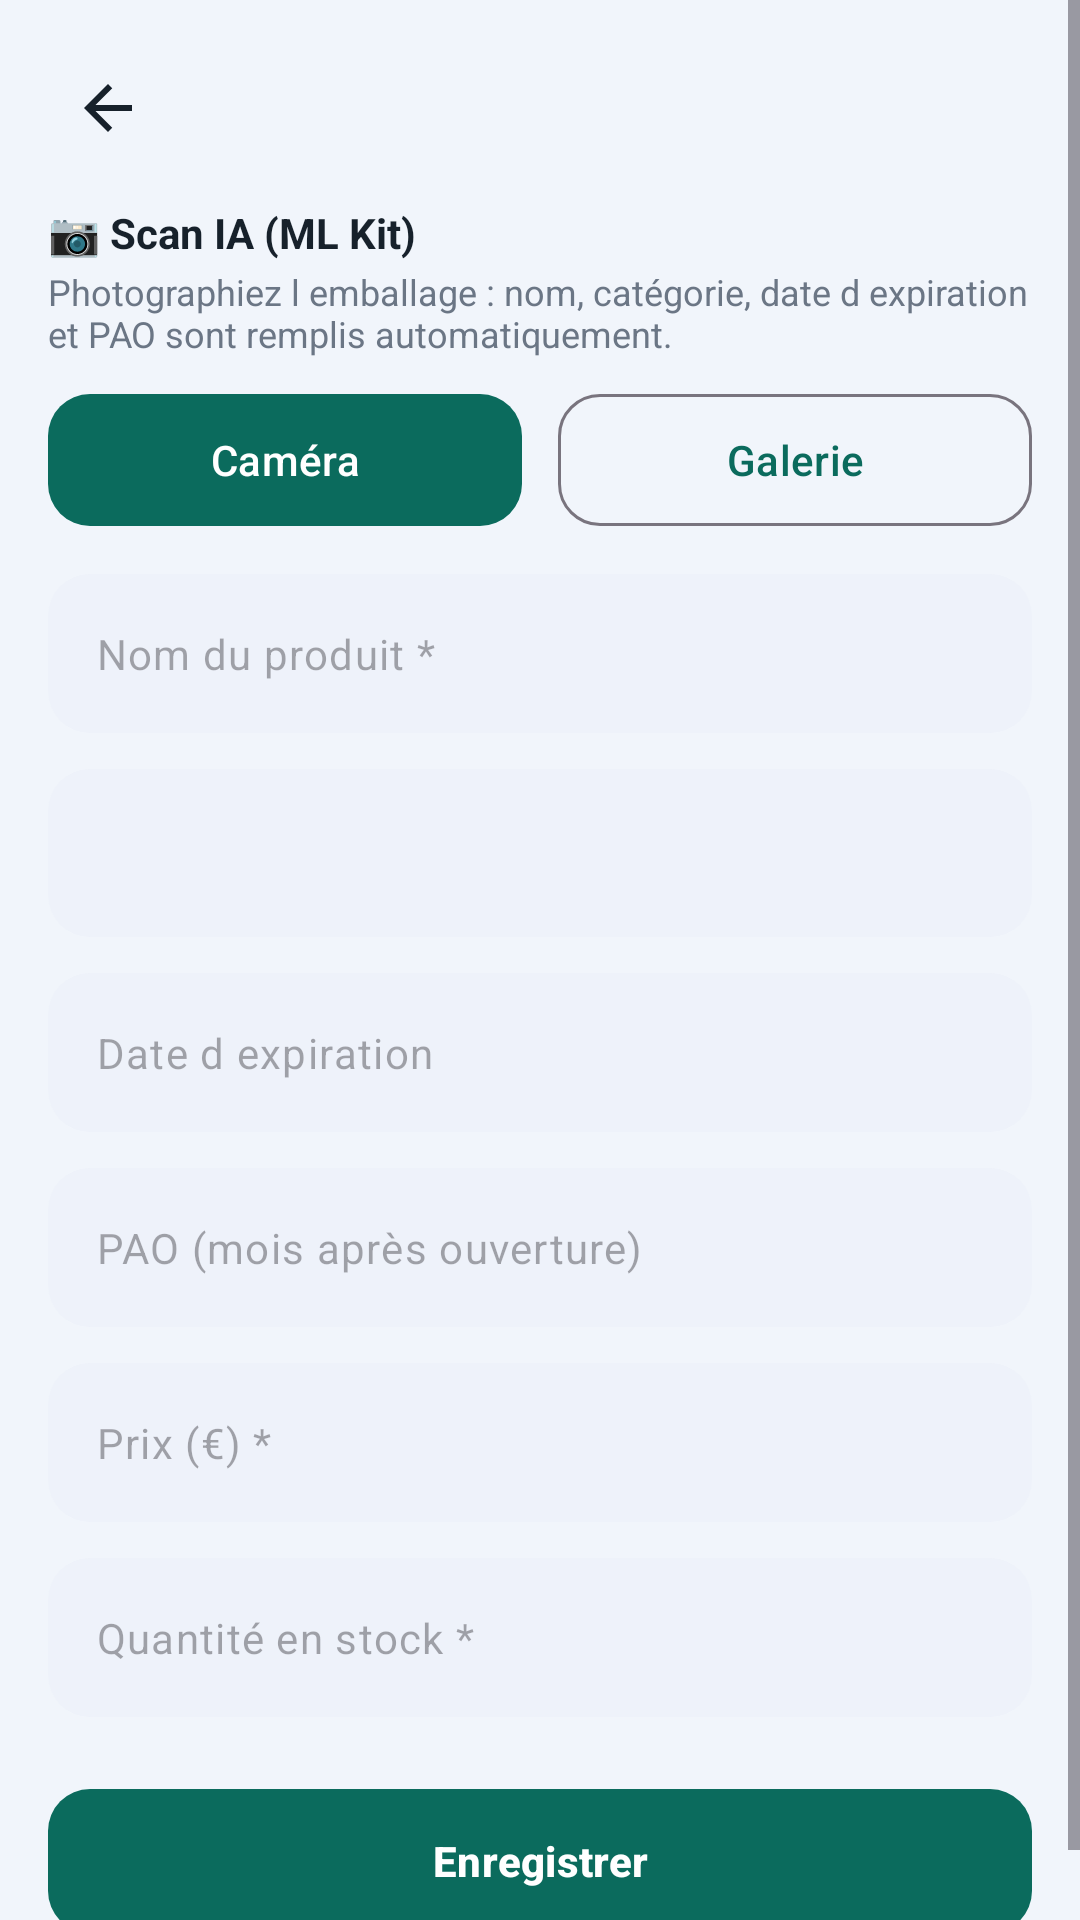

Named icons in this screenshot (1080*1920) and their bounding boxes, BBox(x1, y1, x2, y2):
Retour: BBox(84, 84, 132, 132)
